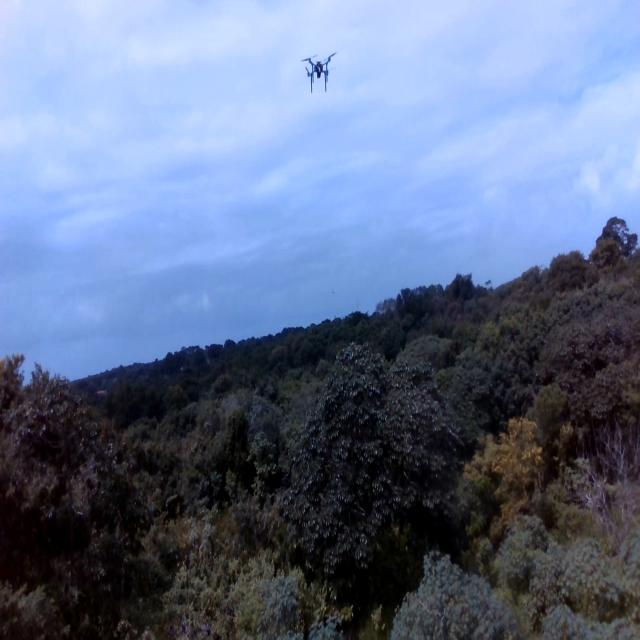-uav-: (292, 42, 351, 108)
